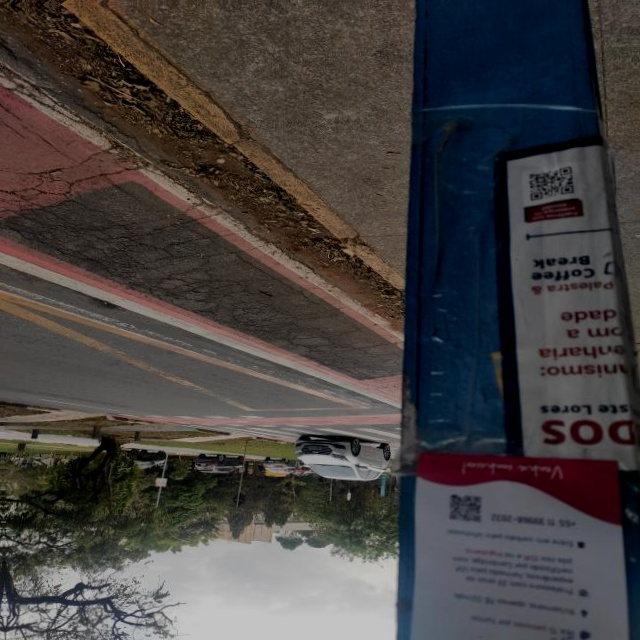qr-code: (530, 167, 573, 201), (450, 494, 481, 523)
